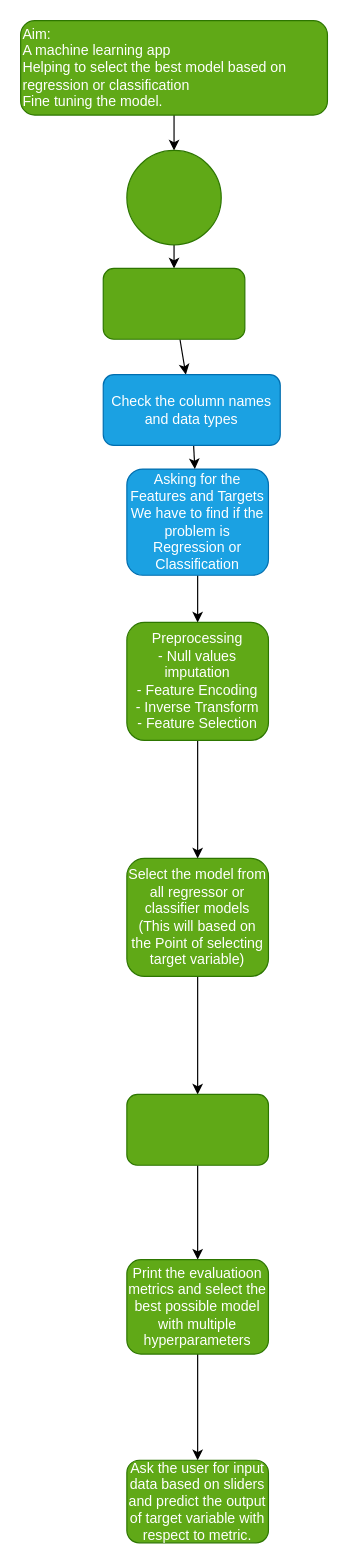
Some shapes in this 348 by 1565 pixel diagram are drawn without their labels. The box of each missing label's shape, as (x1, y1, x2, y2) in pixels:
Add the evaluation metrics based on the problem: (126, 1093, 268, 1165)
Example Data button: (102, 267, 245, 339)
Load the Data or Uplaod the data: (126, 149, 221, 245)
